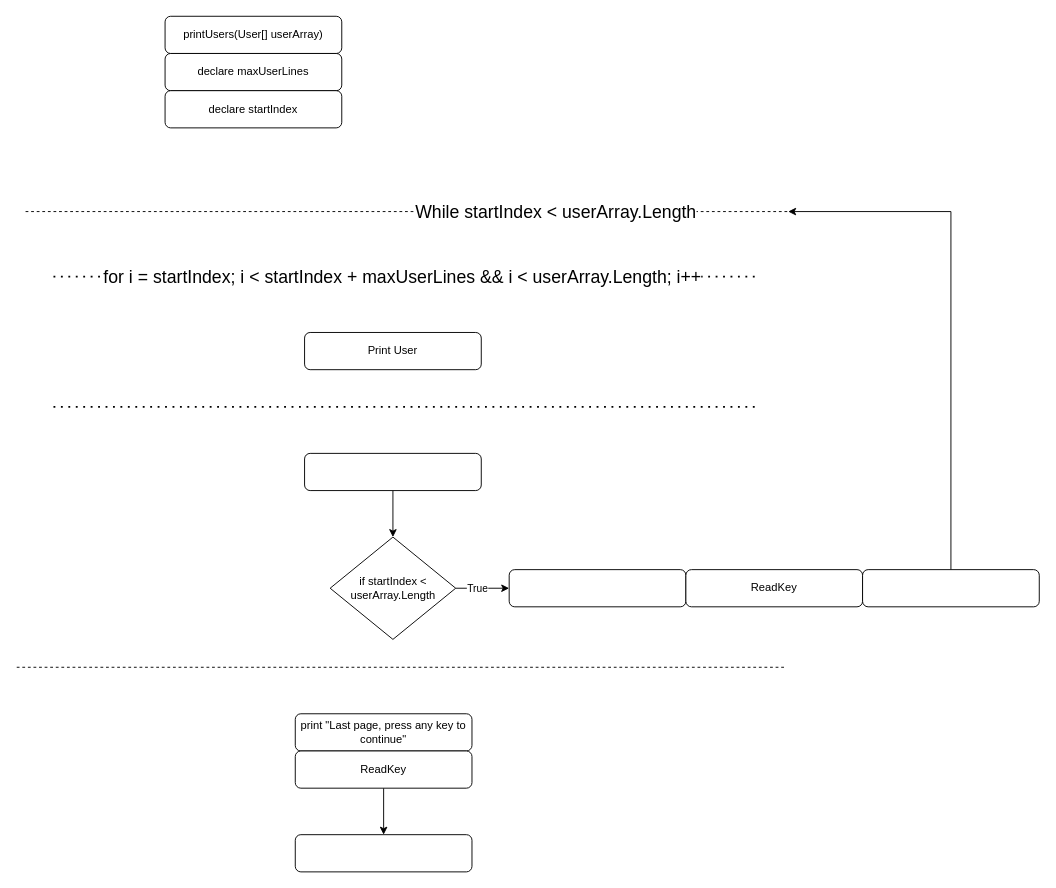
Some shapes in this 1056 by 888 pixel diagram are drawn without their labels. Here are the shapes that lost their labels. From the top down, the centre of each, then its label:
pixel 392 471: startIndex += maxLines
pixel 597 588: print "Press any key to continue"
pixel 950 588: Console.Clear
pixel 383 853: Stop
